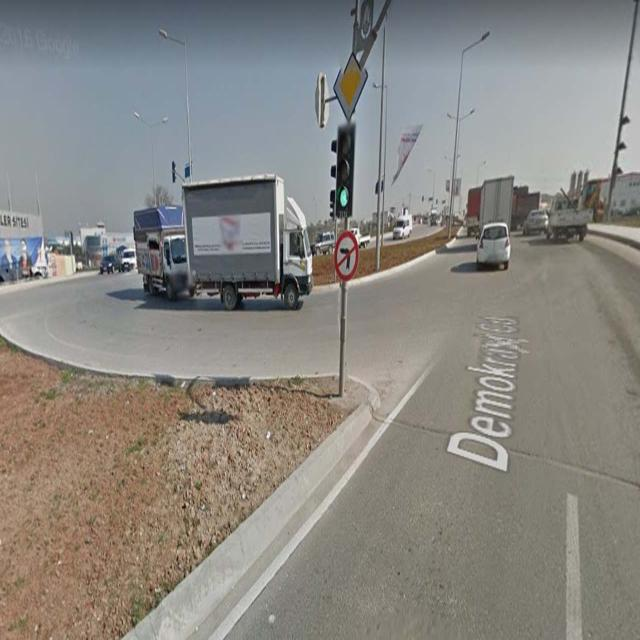soladonulmez: (334, 232, 360, 280)
yesil: (335, 126, 353, 220)
